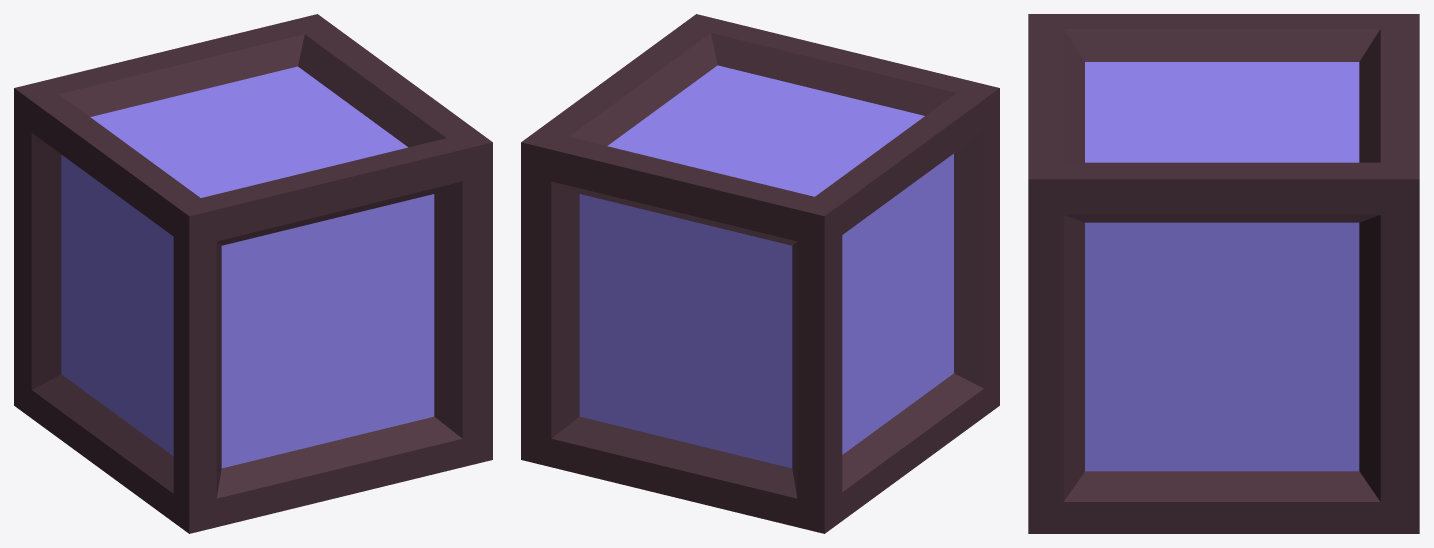
File: watercubecentered.fbx
3 renders of one model, left to right at view 1: azimuth 30°, elevation 25°; view 2: azimuth 150°, elevation 25°; view 3: azimuth 270°, elevation 25°, orthographic. The views are drawn at different scales.
Visible parts, largest first — view 1: water; view 2: water; view 3: water.
Boxes of the visible parts, box(x1,y1,x2,y2) form: water: box(14, 14, 492, 533); water: box(521, 14, 999, 533); water: box(1028, 14, 1419, 533).
Size of the model in its own units: 1.16 by 1.16 by 1.16.
